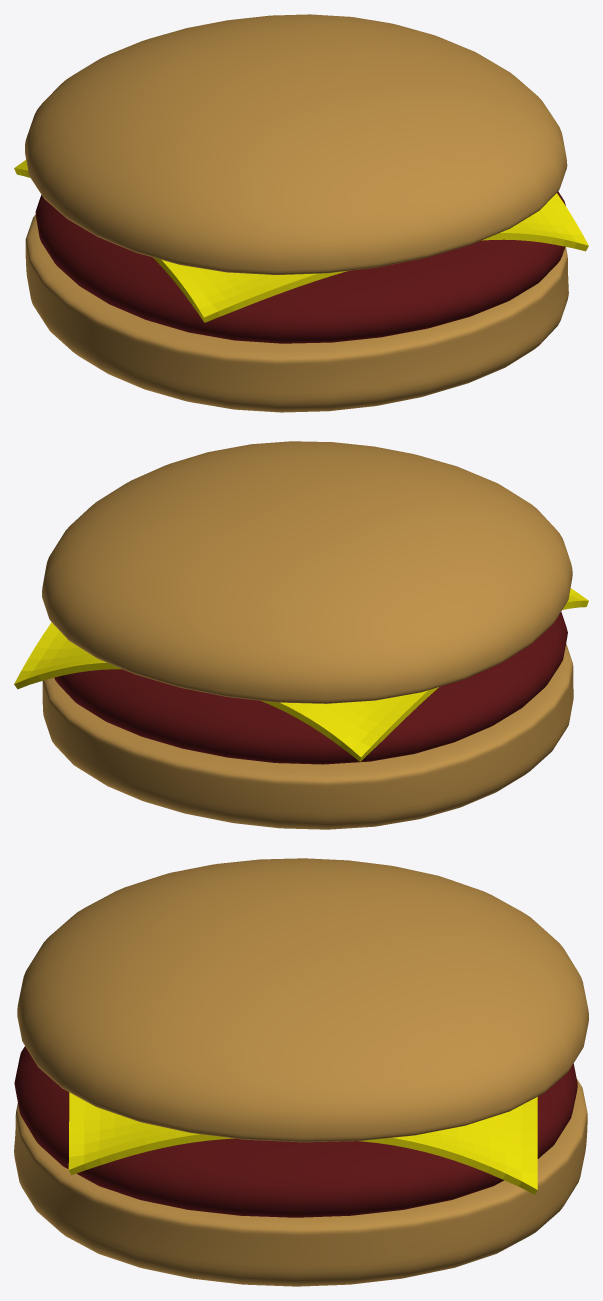
File: hamburger.glb
The picture shows the model from 3 angles, top to bottom: view 1: azimuth 30°, elevation 25°; view 2: azimuth 150°, elevation 25°; view 3: azimuth 270°, elevation 25°; orthographic projection. The views are drawn at different scales.
Visible parts, largest first — view 1: Cube.002, Cube, Cube.001, Plane; view 2: Cube.002, Cube, Cube.001, Plane; view 3: Cube.002, Cube, Cube.001, Plane.
Part boxes in pixels (<box>): Cube.002: <box>25,14,567,274</box>; Cube: <box>25,215,568,412</box>; Cube.001: <box>35,191,565,343</box>; Plane: <box>14,160,588,322</box>; Cube.002: <box>42,441,572,703</box>; Cube: <box>42,643,573,829</box>; Cube.001: <box>54,612,567,764</box>; Plane: <box>14,588,588,761</box>; Cube.002: <box>17,858,588,1142</box>; Cube: <box>14,1078,587,1286</box>; Cube.001: <box>14,1046,577,1217</box>; Plane: <box>68,1092,537,1194</box>.
Bounding box in the file's own units: 9.37 × 5.04 × 9.42.
